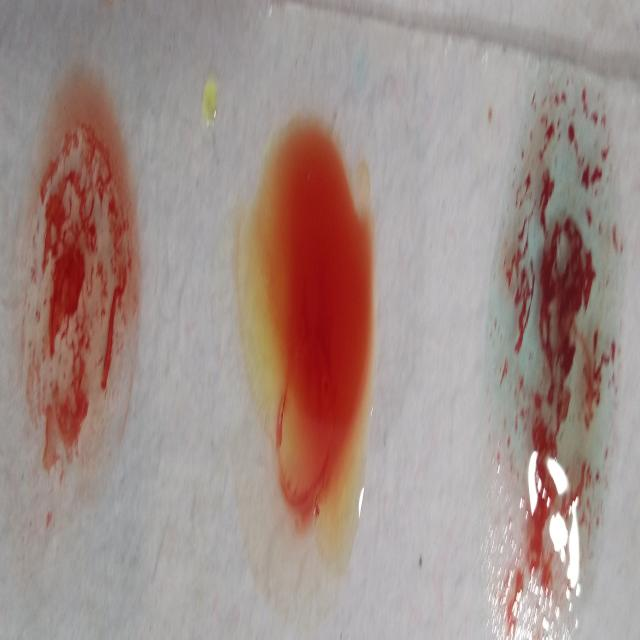A: (482, 65, 630, 596)
D: (20, 79, 136, 535)
